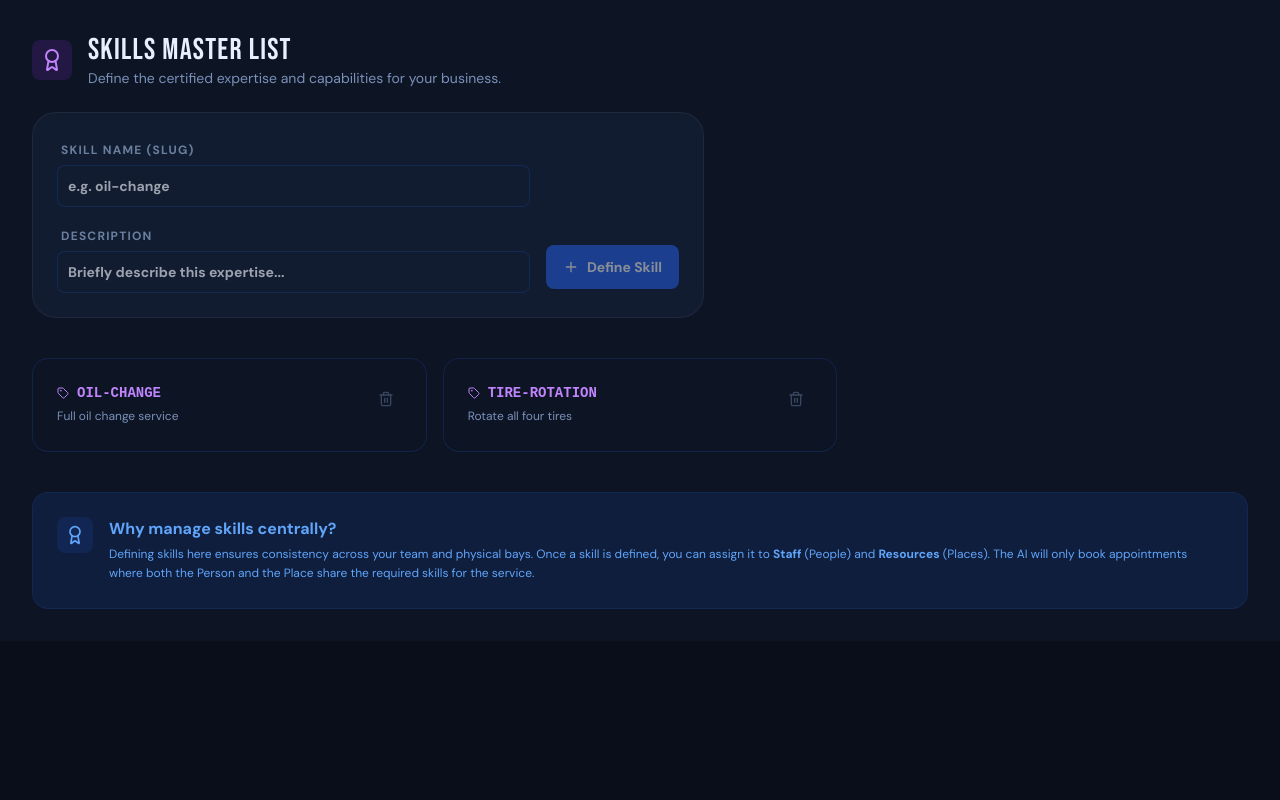
Test case: SkillManagementView — create skill form › HAPPY: typing a name enables the Submit button
This screenshot has width=1280, height=800.
Type "brake-service" into the field with placeholder "e.g. oil-change" at (293, 186), box [57,165,530,207]
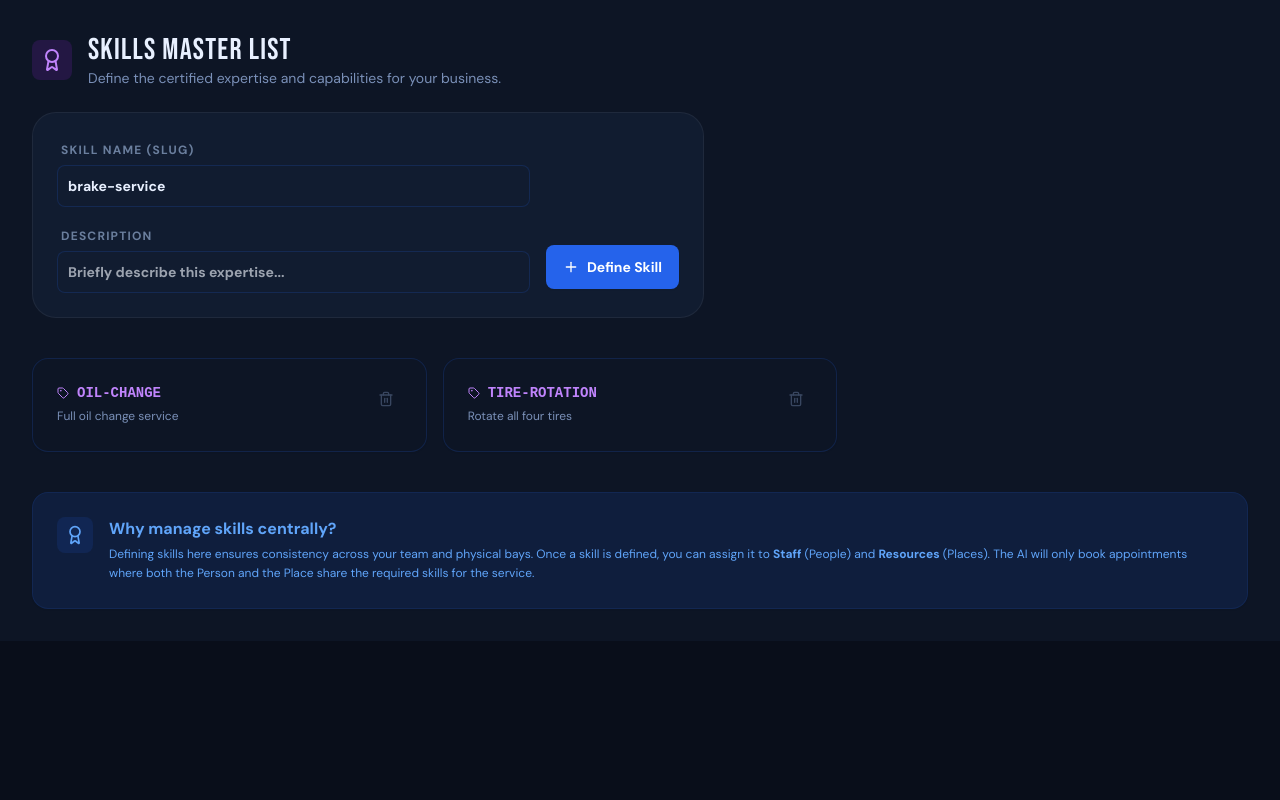
Expected: the button "Define Skill" is enabled, [546,245,679,289]
